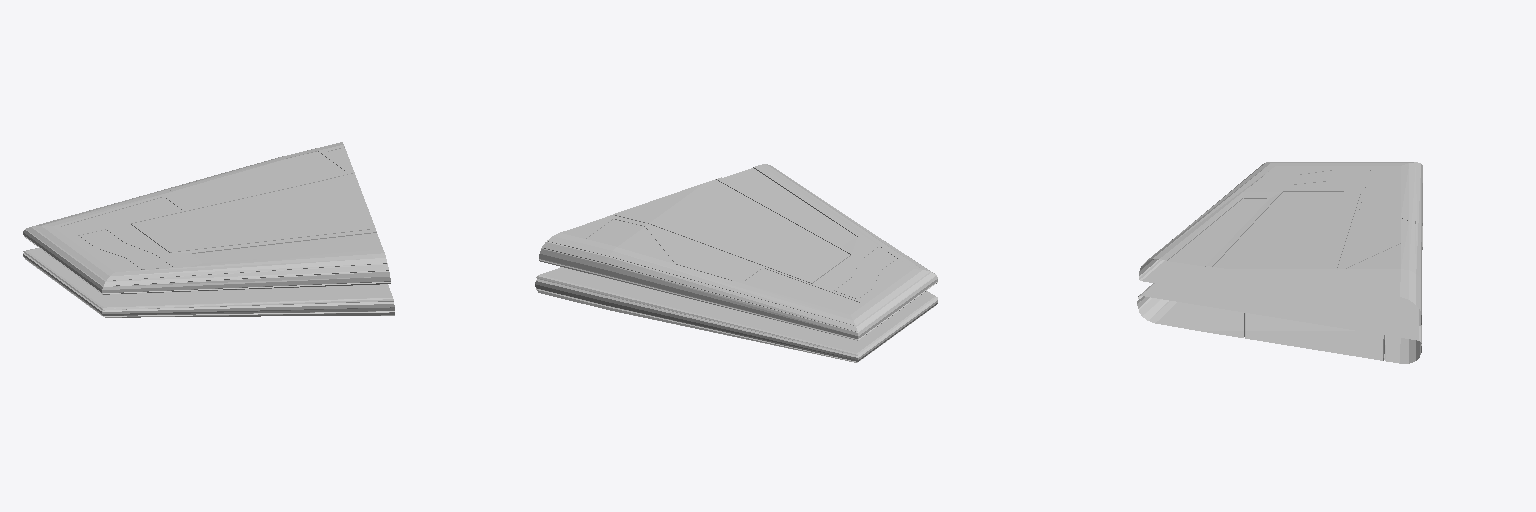
File: spaceshipThird2.obj
3 views of the same model, side by side, from view 1: azimuth 30°, elevation 25°; view 2: azimuth 150°, elevation 25°; view 3: azimuth 270°, elevation 25° (orthographic).
Parts seen in each view (by area): view 1: spaceship.001; view 2: spaceship.001; view 3: spaceship.001.
Boxes of the visible parts, x1=… form: spaceship.001: x1=23, y1=142, x2=394, y2=317; spaceship.001: x1=535, y1=164, x2=937, y2=362; spaceship.001: x1=1137, y1=162, x2=1422, y2=363.
Bounding box in the file's own units: 3.07 × 0.5666 × 2.35.